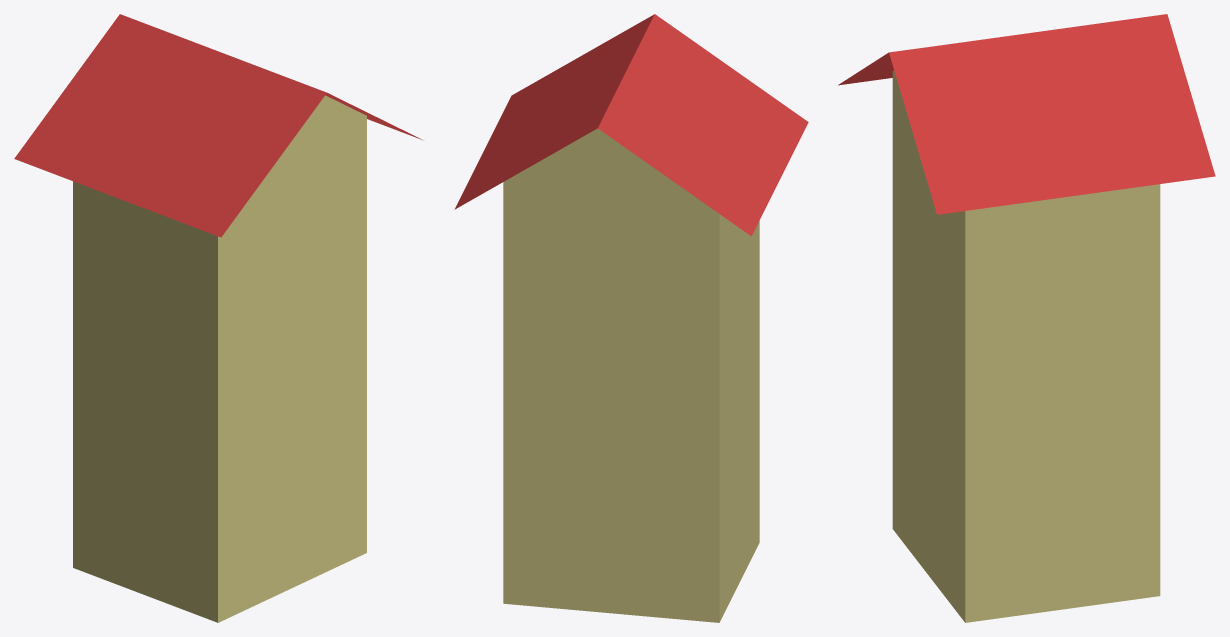
The picture shows the model from 3 angles, left to right: view 1: azimuth 30°, elevation 25°; view 2: azimuth 150°, elevation 25°; view 3: azimuth 270°, elevation 25°; orthographic projection. The views are drawn at different scales.
Size of the model in its own units: 4.51 by 4.3 by 6.67.
